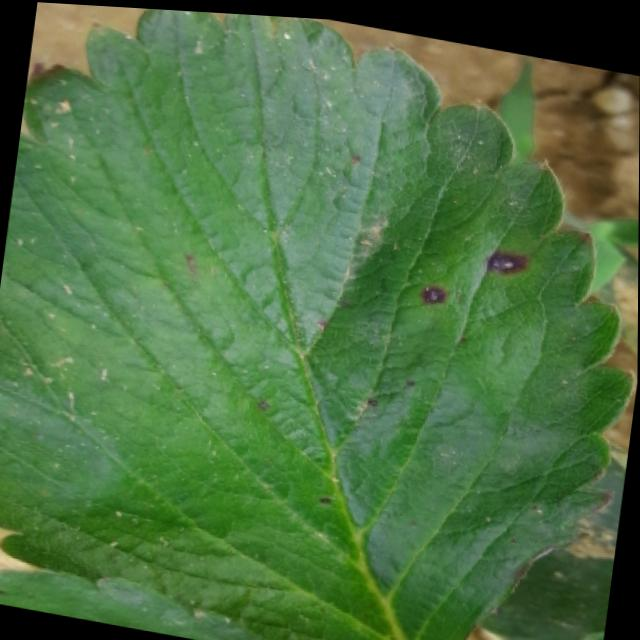Leaf Spot: (0, 7, 637, 640)
